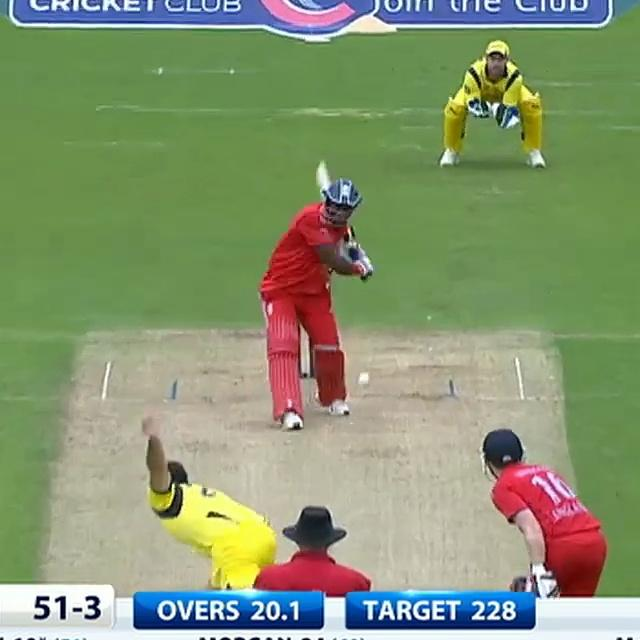umpire: (246, 498, 376, 596)
